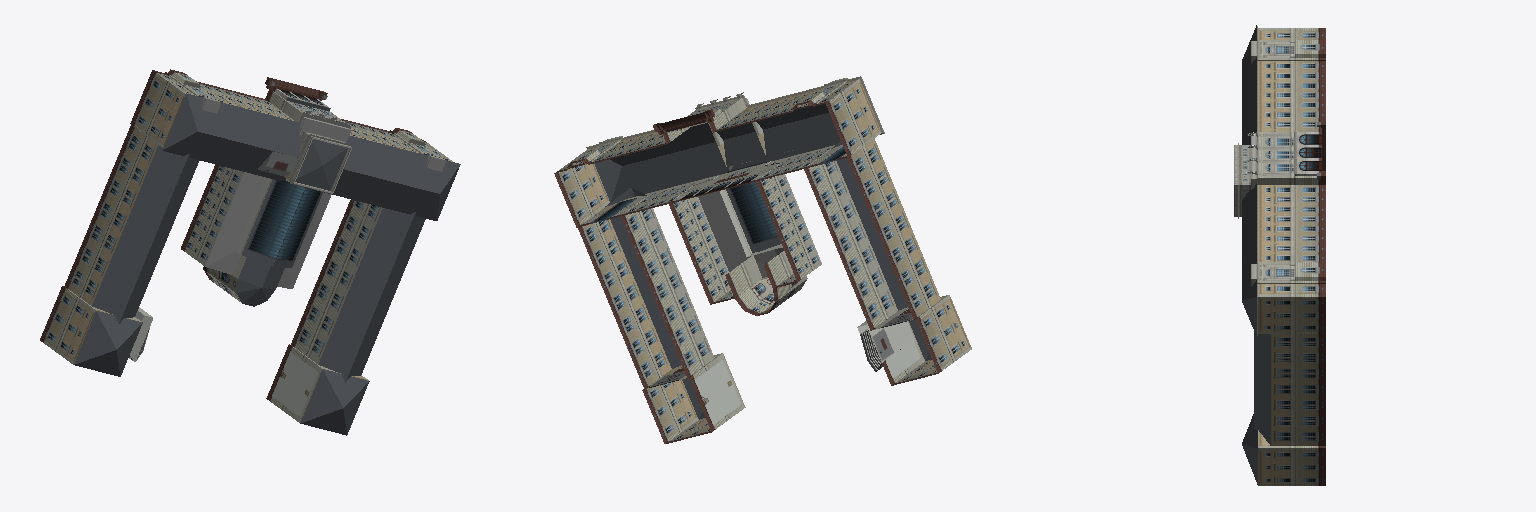
3 renders of one model, left to right at view 1: azimuth 30°, elevation 25°; view 2: azimuth 150°, elevation 25°; view 3: azimuth 270°, elevation 25°, orthographic.
Parts seen in each view (by area): view 1: L; view 2: L; view 3: L.
Part boxes in pixels (left/top/right/bottom): L: left=40, top=69, right=460, bottom=435; L: left=554, top=76, right=971, bottom=443; L: left=1234, top=25, right=1325, bottom=485.
Size of the model in its own units: 118 by 112 by 24.42.
1 materials, 1 textured.